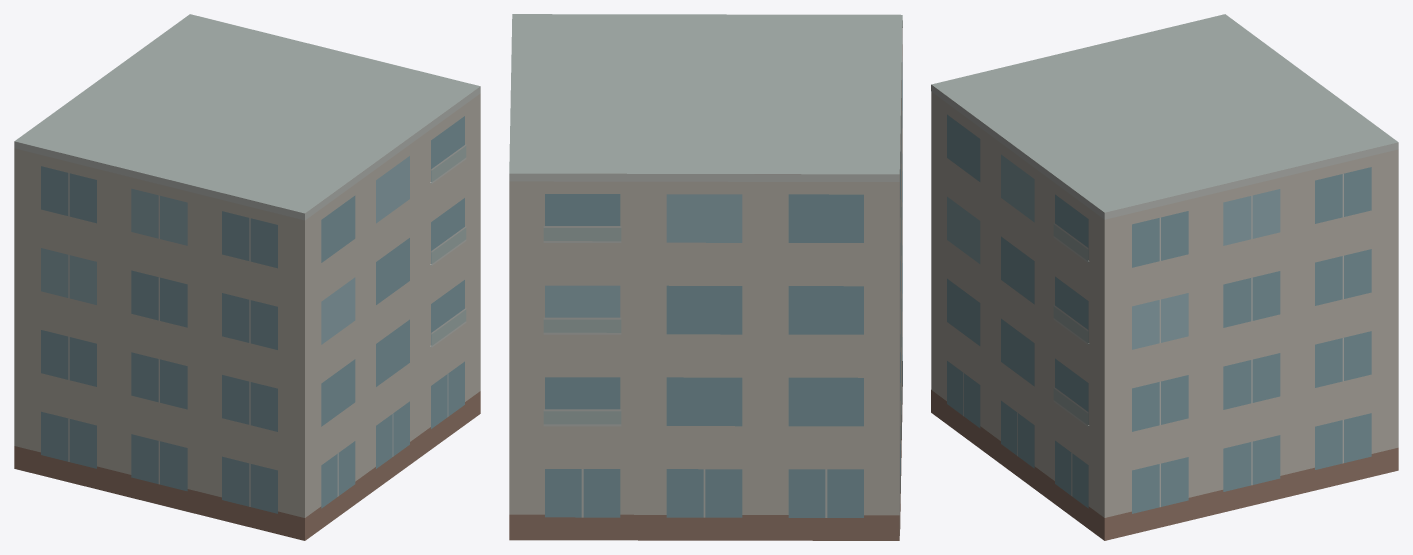
The model's file is survey-upis-32800292.glb.
3 views of the same model, side by side, from view 1: azimuth 30°, elevation 25°; view 2: azimuth 150°, elevation 25°; view 3: azimuth 270°, elevation 25° (orthographic). The views are drawn at different scales.
Visible parts, largest first — view 1: survey-upis-32800292.tmp; view 2: survey-upis-32800292.tmp; view 3: survey-upis-32800292.tmp.
Boxes of the visible parts, bbox=[...] form: survey-upis-32800292.tmp: bbox=[14, 14, 480, 540]; survey-upis-32800292.tmp: bbox=[509, 14, 902, 540]; survey-upis-32800292.tmp: bbox=[931, 14, 1398, 540].
Bounding box in the file's own units: 14.81 × 11.4 × 14.73.
